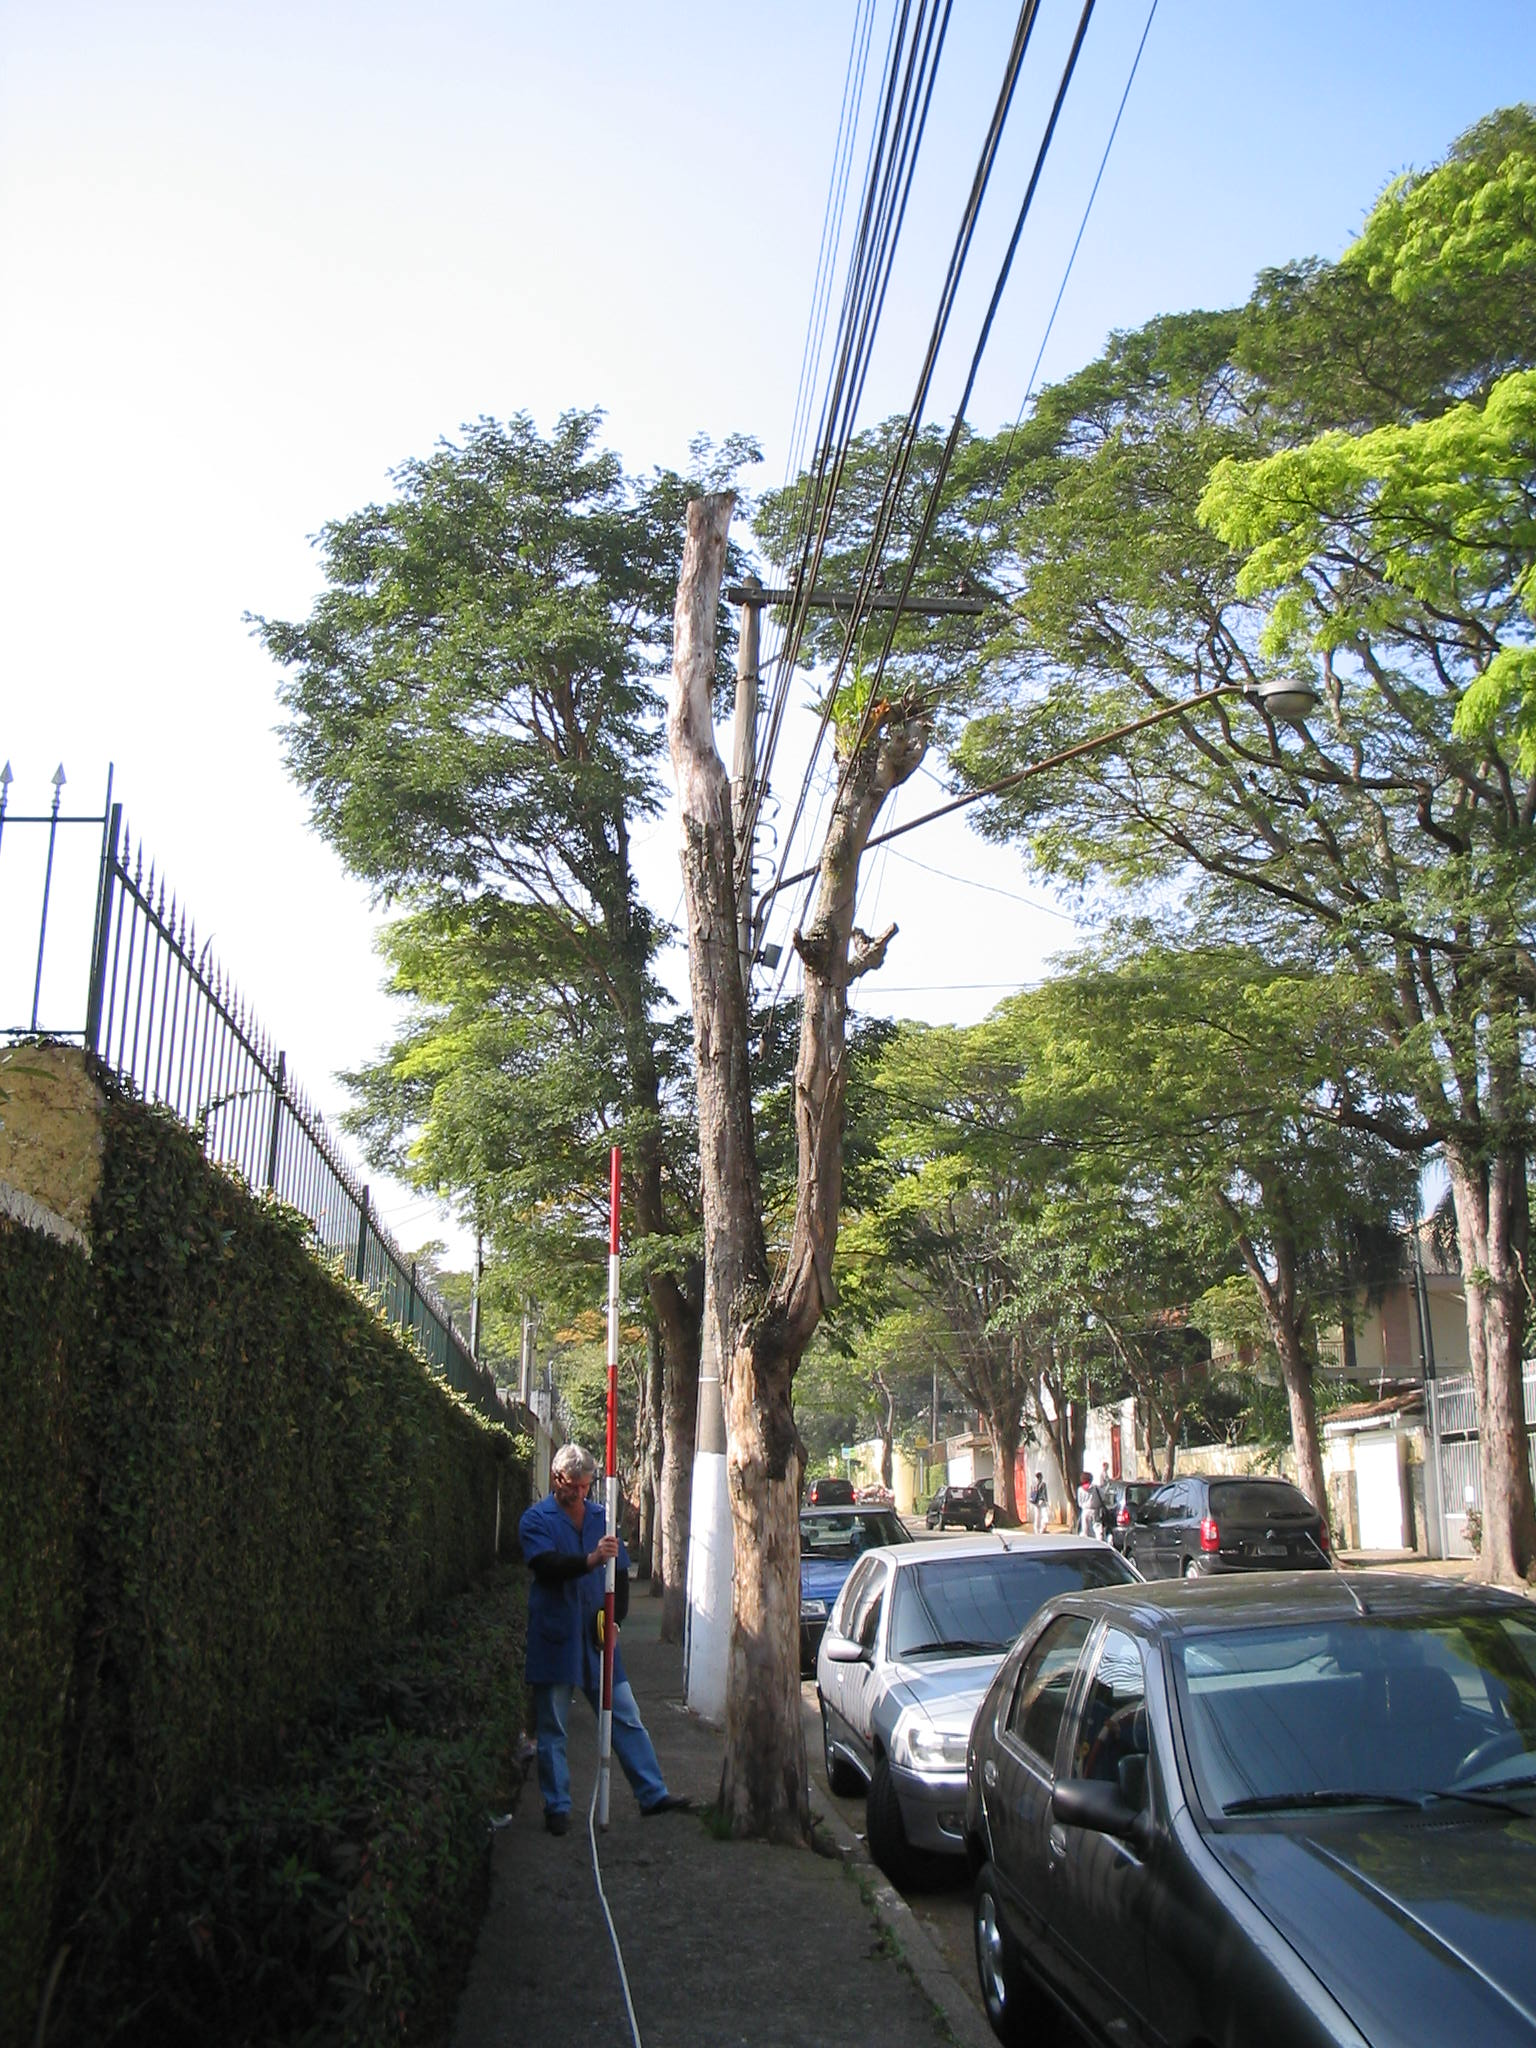stem: (694, 1308, 874, 1845), (1246, 1345, 1365, 1545)
stick: (561, 1147, 682, 1825)
tree: (232, 408, 715, 1645), (666, 492, 941, 1846), (945, 934, 1394, 1542)
